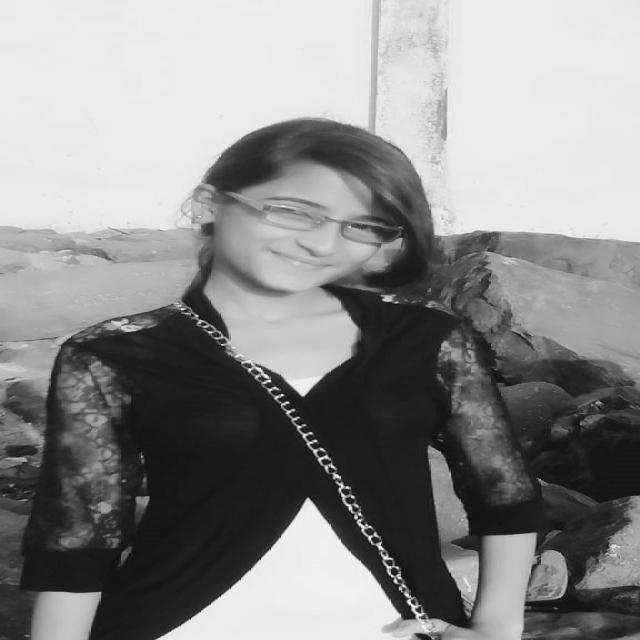without_mask: (219, 189, 405, 245)
